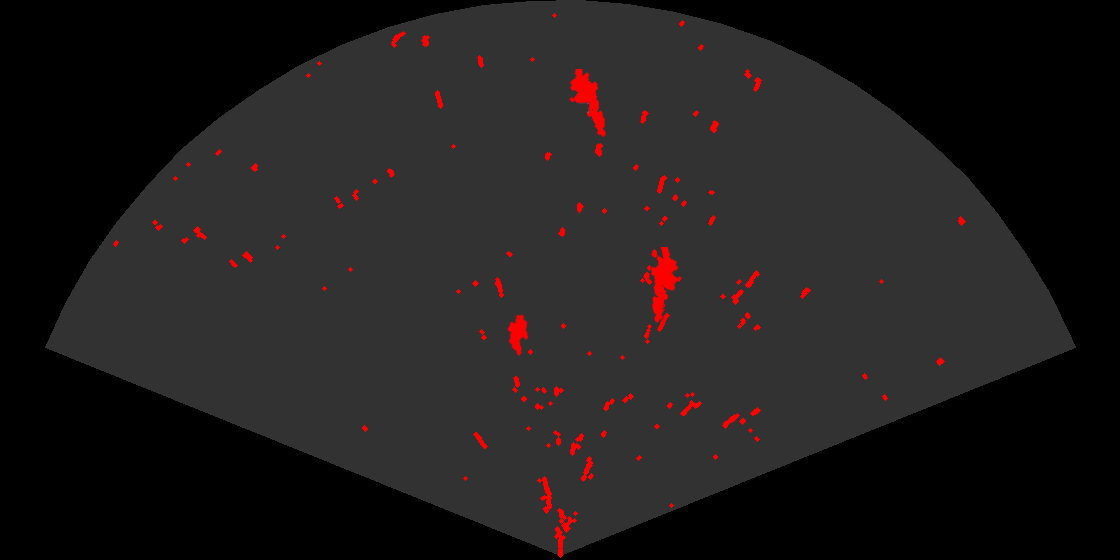AUV: (506, 312, 530, 358)
frogman: (568, 69, 607, 137), (649, 247, 683, 324)
